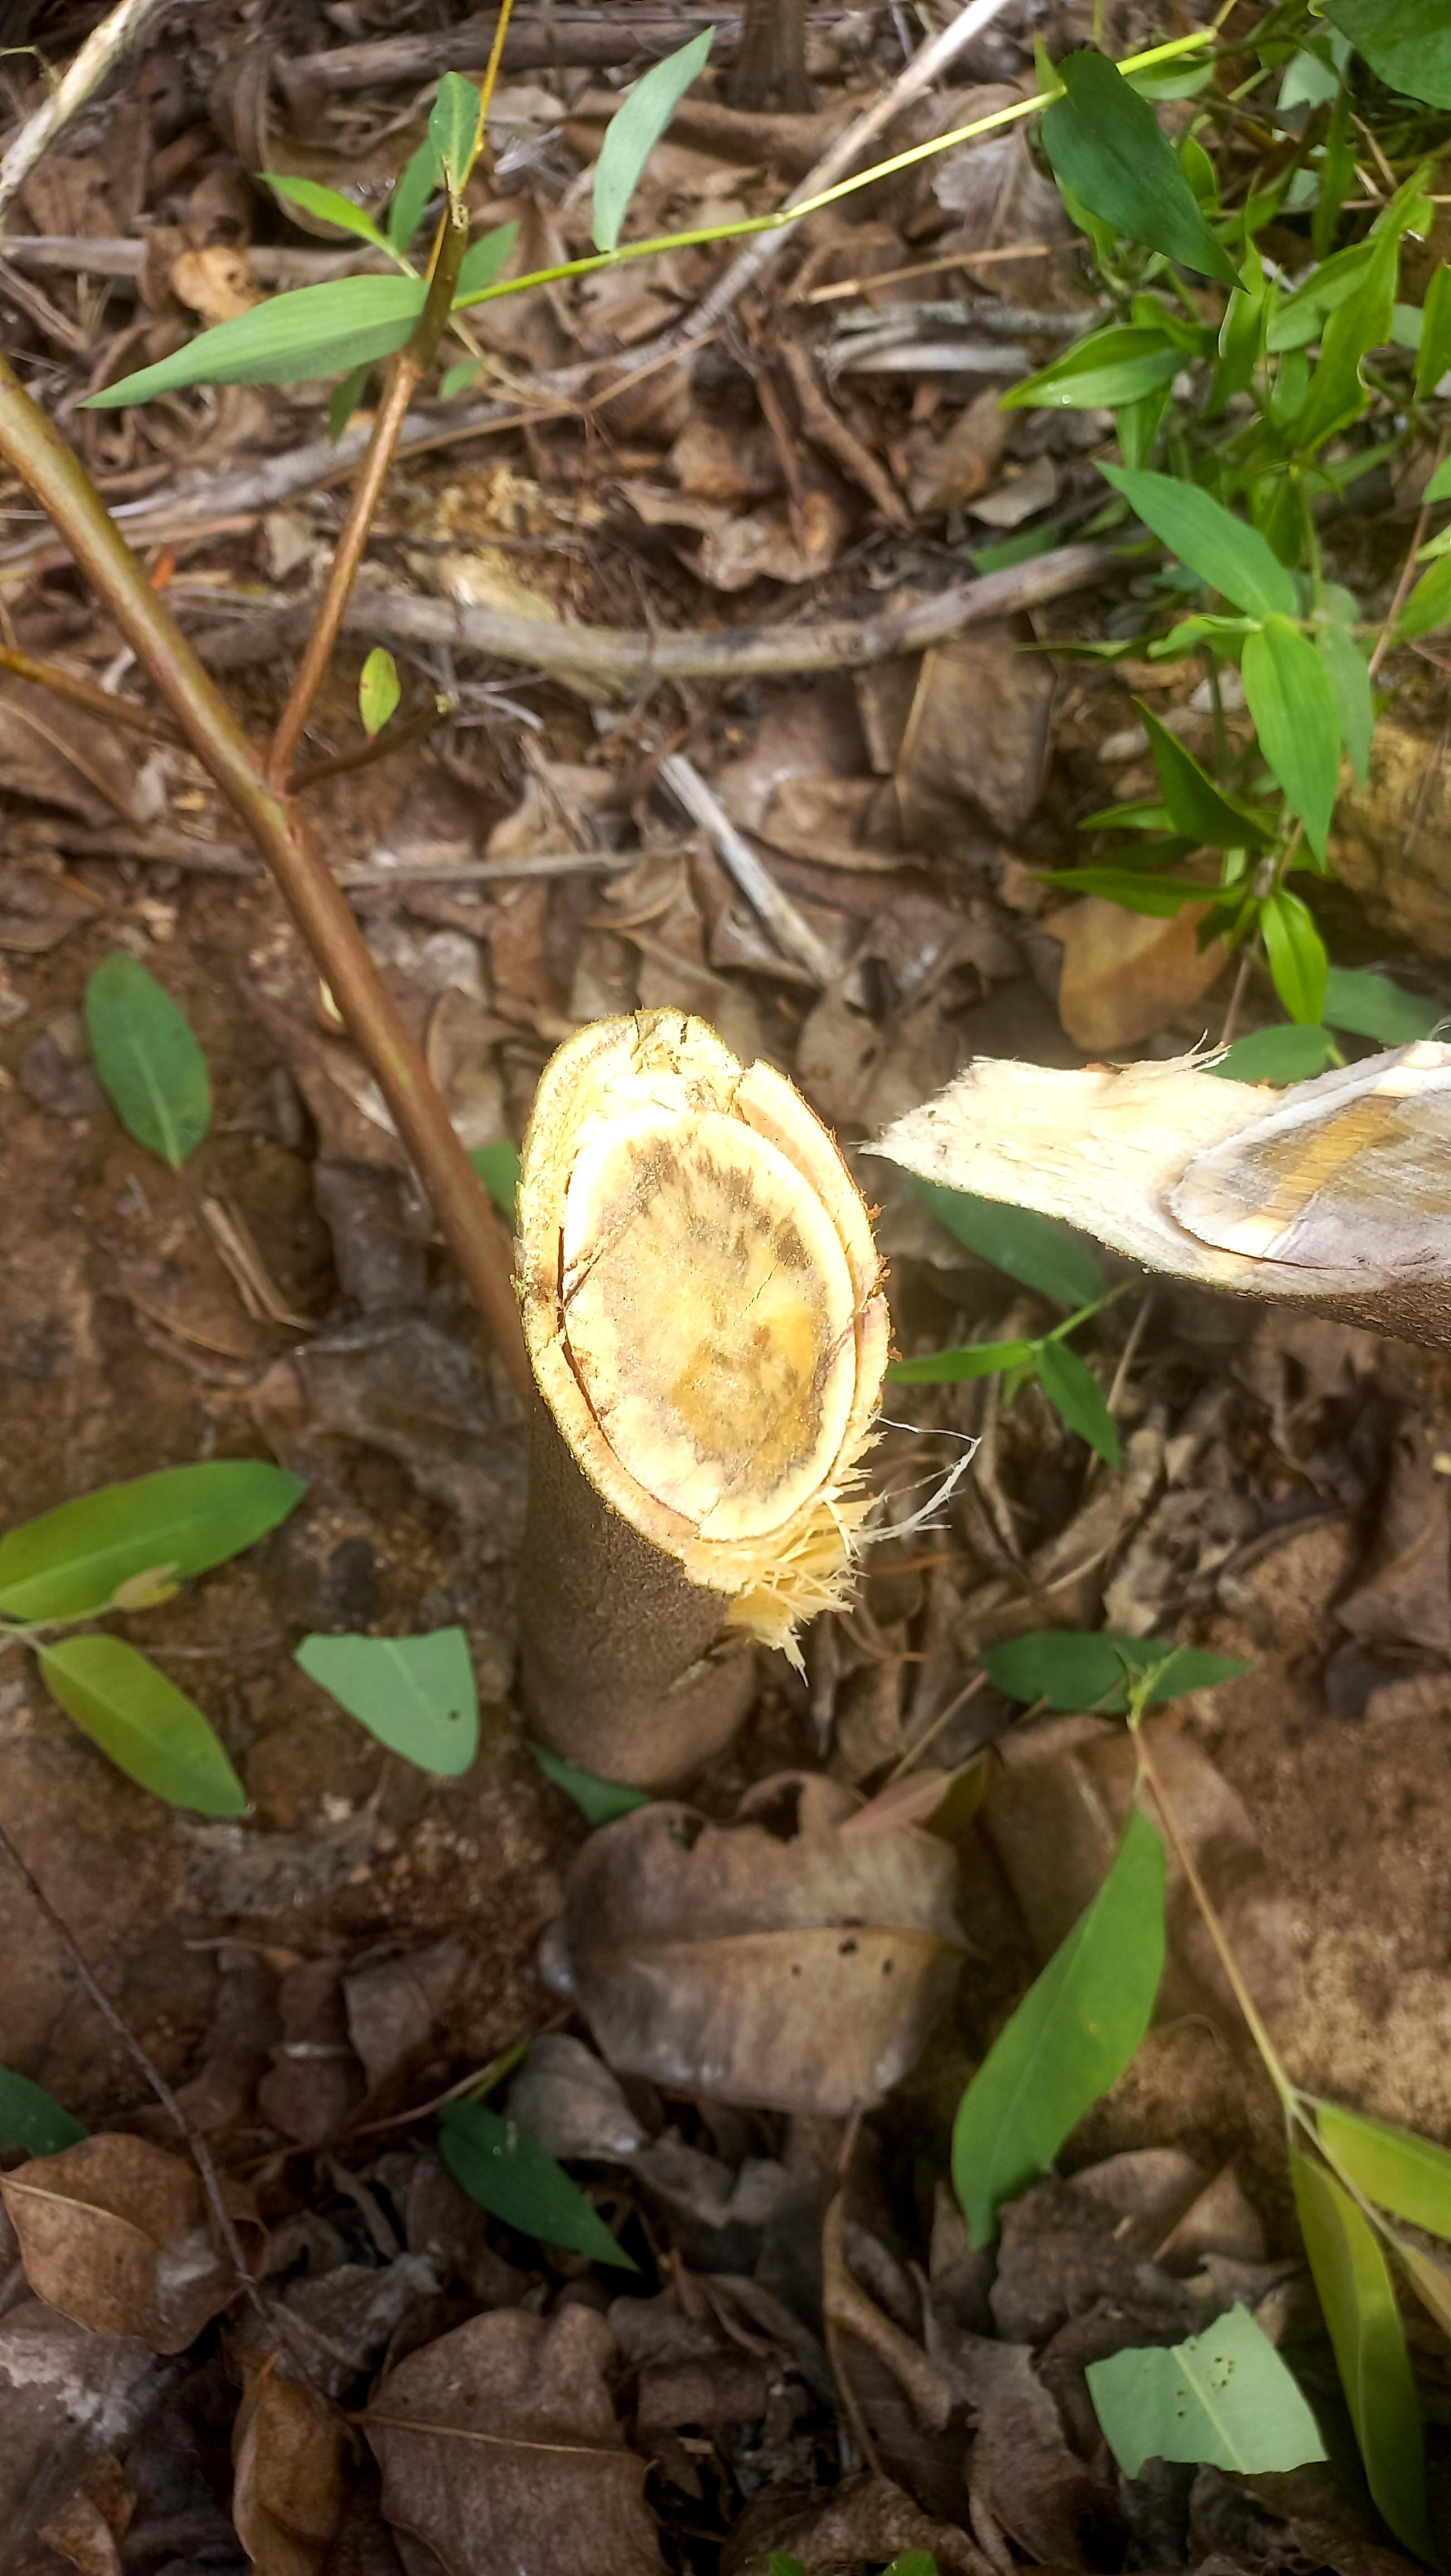Ralstonia: (591, 1123, 819, 1286), (1248, 1086, 1444, 1244), (678, 1307, 841, 1493), (600, 1277, 665, 1407)
